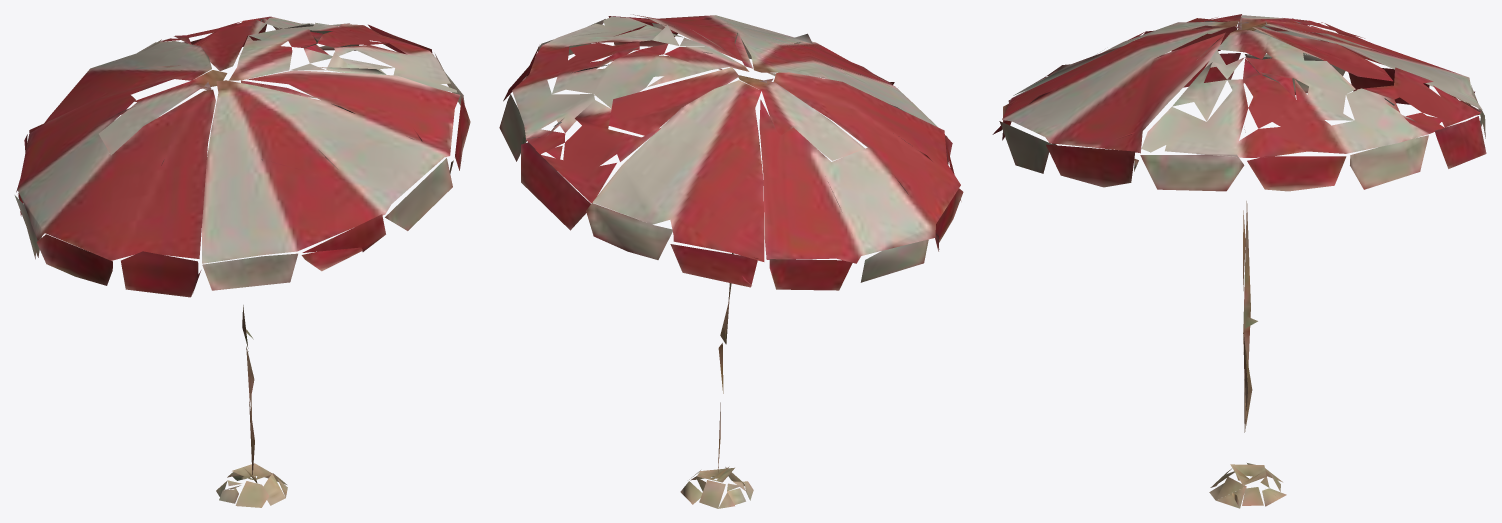
Rendered from kueste_sonnenschirm_lo.glb.
3 renders of one model, left to right at view 1: azimuth 30°, elevation 25°; view 2: azimuth 150°, elevation 25°; view 3: azimuth 270°, elevation 25°, orthographic. The views are drawn at different scales.
Visible parts, largest first — view 1: Prop; view 2: Prop; view 3: Prop.
Boxes of the visible parts, x1,y1,x2,y2 form: Prop: (14,16,470,507); Prop: (499,14,963,508); Prop: (992,14,1486,508).
Bounding box in the file's own units: 0.9492 × 0.9831 × 0.9487.
Materials: 1 (1 with a texture image).
